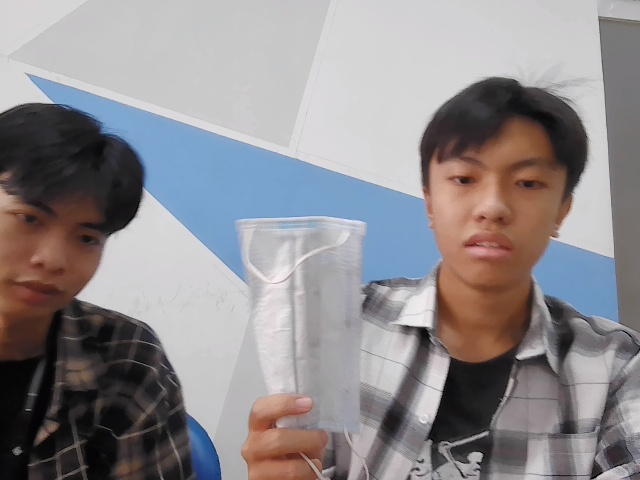human: (419, 72, 582, 300), (1, 99, 145, 325)
mask: (237, 221, 371, 439)
